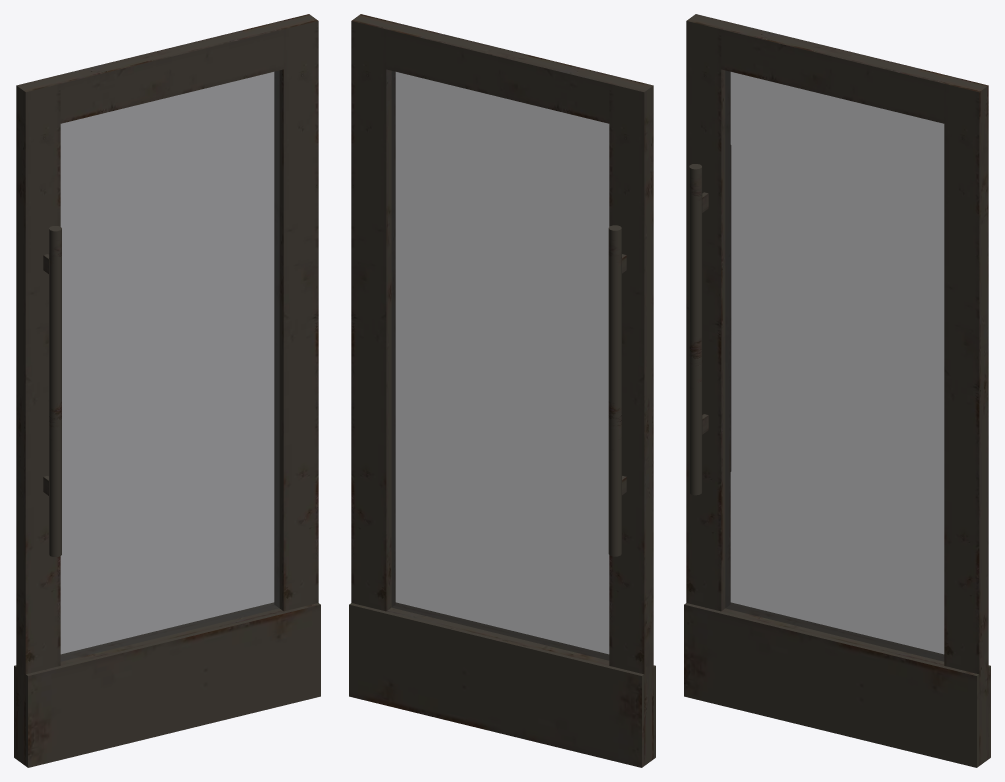
The model's file is Door_2.glb.
3 renders of one model, left to right at view 1: azimuth 30°, elevation 25°; view 2: azimuth 150°, elevation 25°; view 3: azimuth 330°, elevation 25°, orthographic.
Visible parts, largest first — view 1: Door_2; view 2: Door_2; view 3: Door_2.
Boxes of the visible parts, <box> form: Door_2: <box>14,14,320,767</box>; Door_2: <box>349,14,655,767</box>; Door_2: <box>684,14,990,767</box>.
Bounding box in the file's own units: 1 × 2.2 × 0.2103.
Materials: 2 (1 with a texture image).
